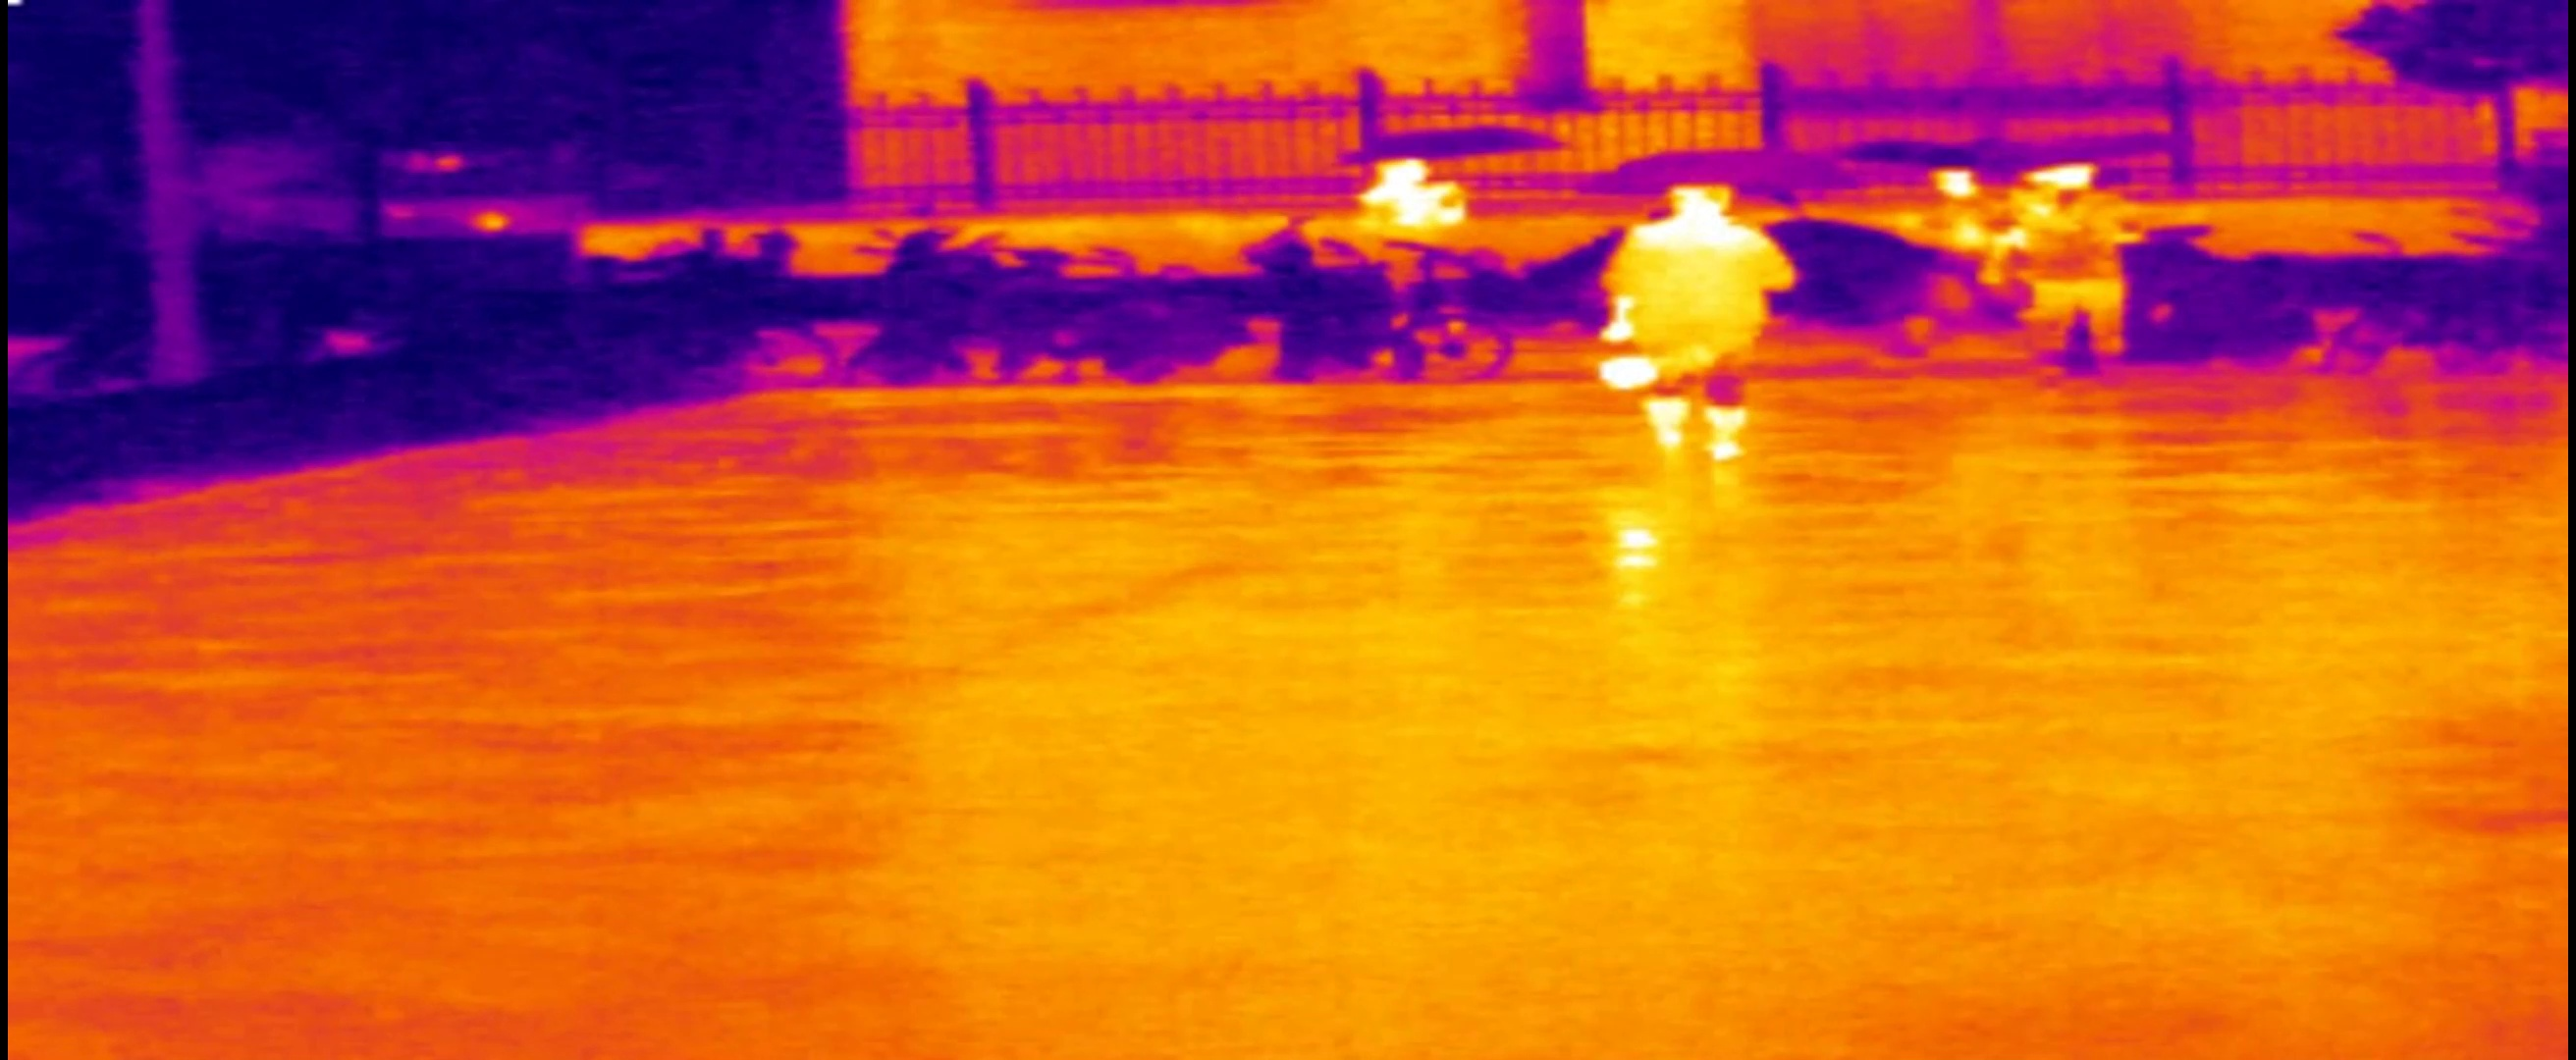person: (1592, 184, 1798, 472), (2021, 163, 2133, 366), (1353, 157, 1482, 261), (1910, 167, 2005, 259)
